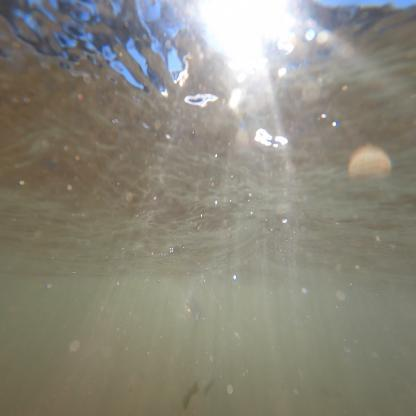Rác: (182, 274, 248, 386)
